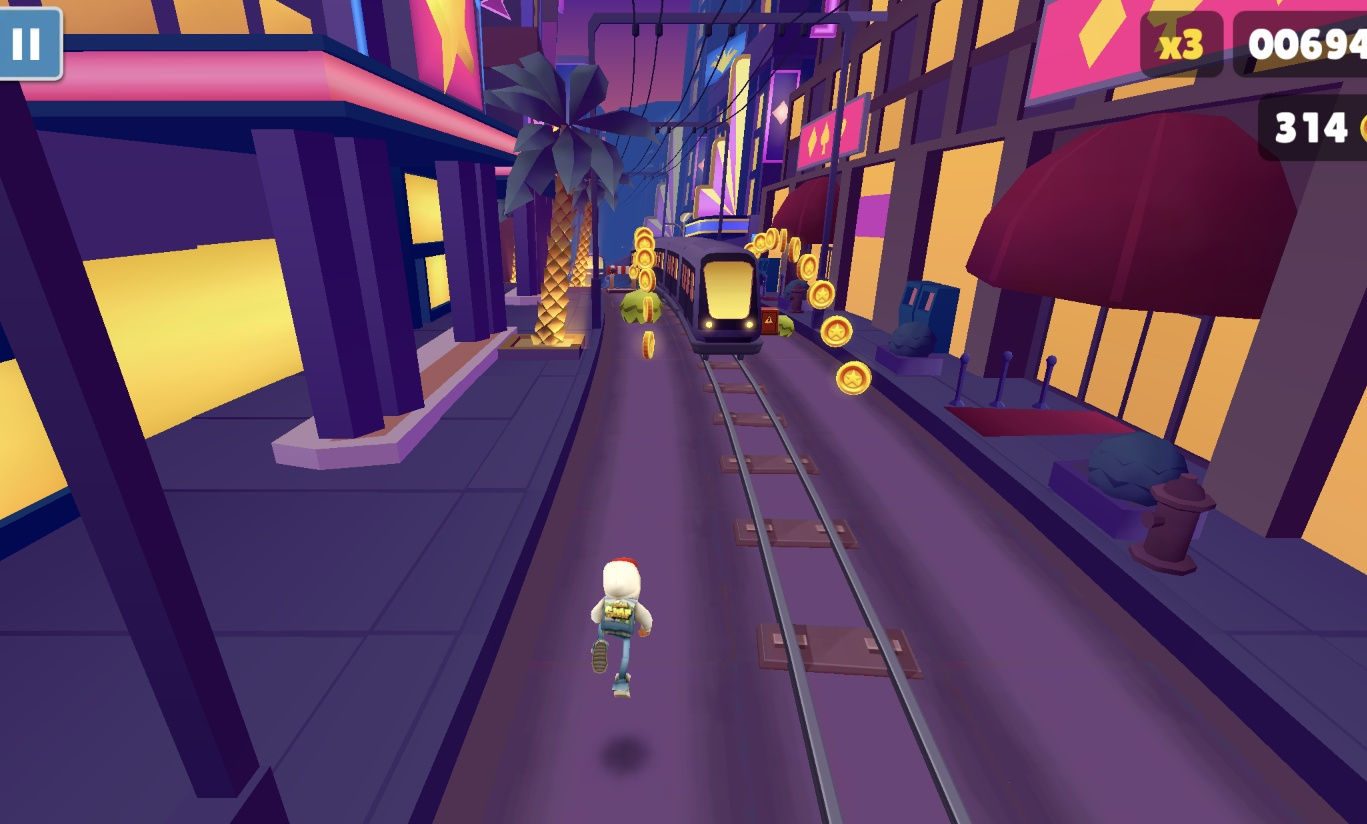bush: (618, 290, 663, 330), (778, 314, 795, 338)
ground_barrier: (605, 262, 634, 294)
small_obstacle: (759, 308, 779, 337)
train: (650, 237, 765, 356), (594, 247, 615, 283)
